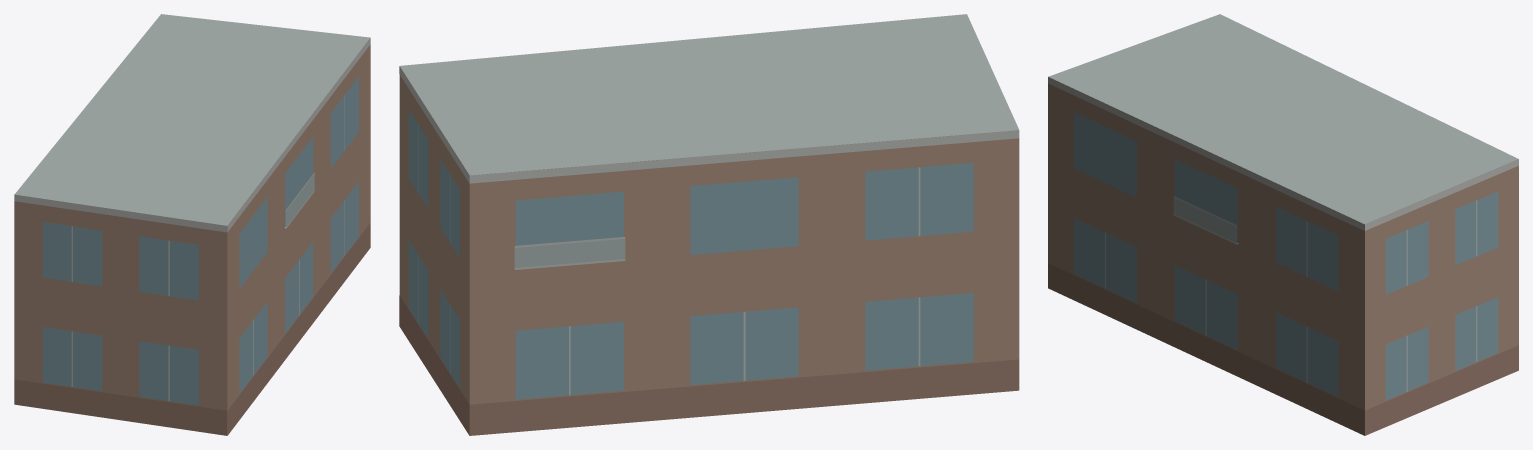
File: survey-upis-32637796.glb
3 renders of one model, left to right at view 1: azimuth 30°, elevation 25°; view 2: azimuth 150°, elevation 25°; view 3: azimuth 270°, elevation 25°, orthographic. The views are drawn at different scales.
Parts seen in each view (by area): view 1: survey-upis-32637796.tmp; view 2: survey-upis-32637796.tmp; view 3: survey-upis-32637796.tmp.
Part boxes in pixels (box(x1,y1,x2,y2)): survey-upis-32637796.tmp: box(14, 14, 370, 435); survey-upis-32637796.tmp: box(399, 14, 1019, 435); survey-upis-32637796.tmp: box(1048, 14, 1518, 435).
Bounding box in the file's own units: 16.65 × 7.8 × 15.74.
